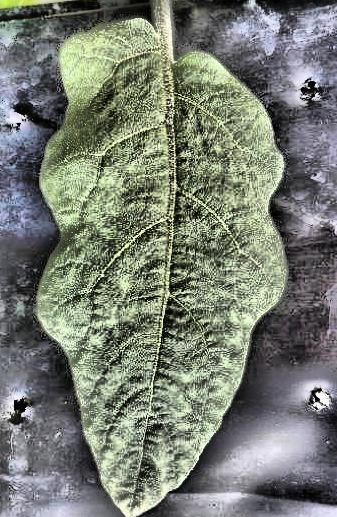HEALTHY: (0, 1, 337, 517)
